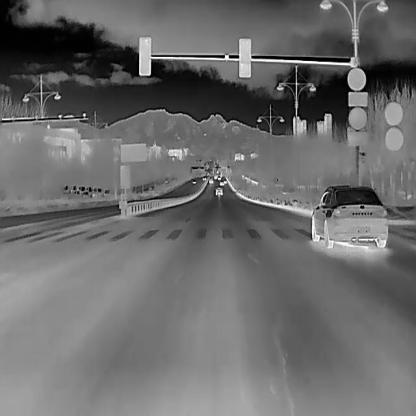car: (310, 183, 387, 247), (214, 186, 222, 195), (218, 180, 224, 185), (191, 178, 196, 183), (208, 178, 213, 183), (202, 174, 206, 180), (217, 174, 220, 180), (223, 179, 227, 183)
